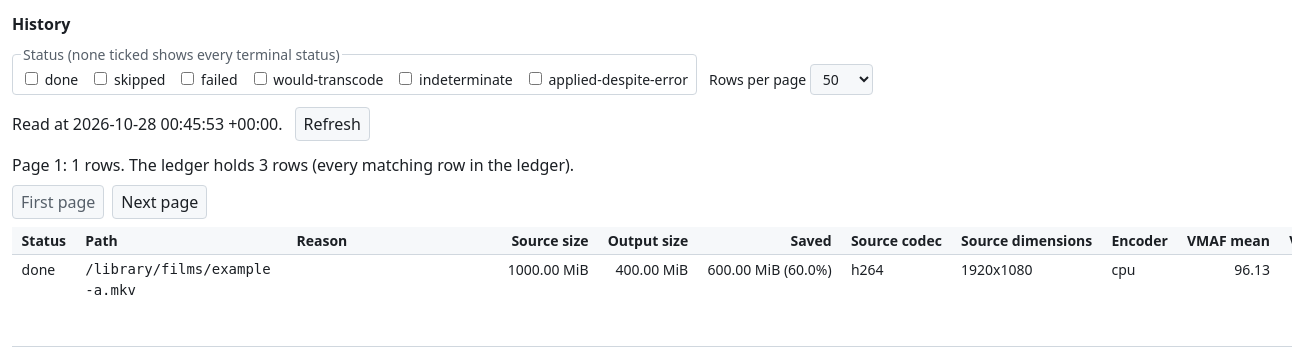
history view › history view: sends the token as a bearer header and in no URL
Expected: the text "Read at 2026-10-28 00:45:53 +00:00." is shown, 12,112 -> 282,136
Click the button "Next page" at (160, 202), box 112,185 -> 207,219
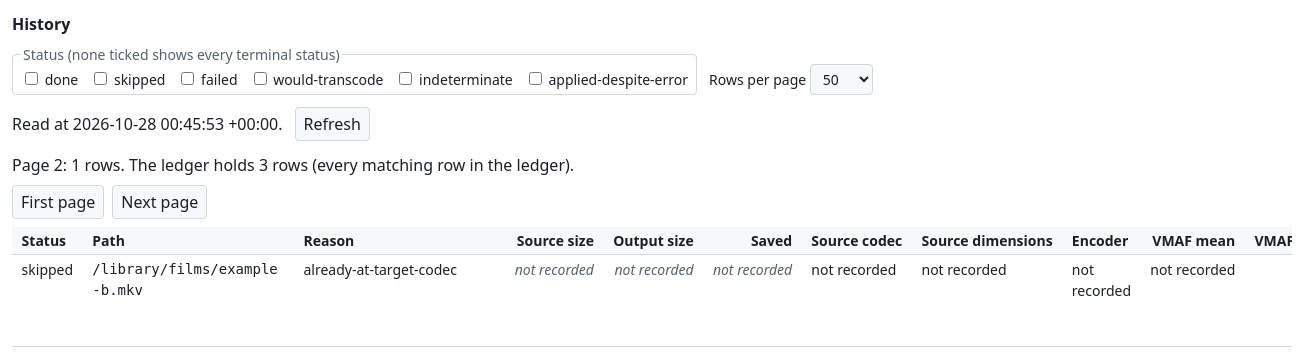
Expected: the text "Page 2: 1 rows." is shown, 12,154 -> 129,176
